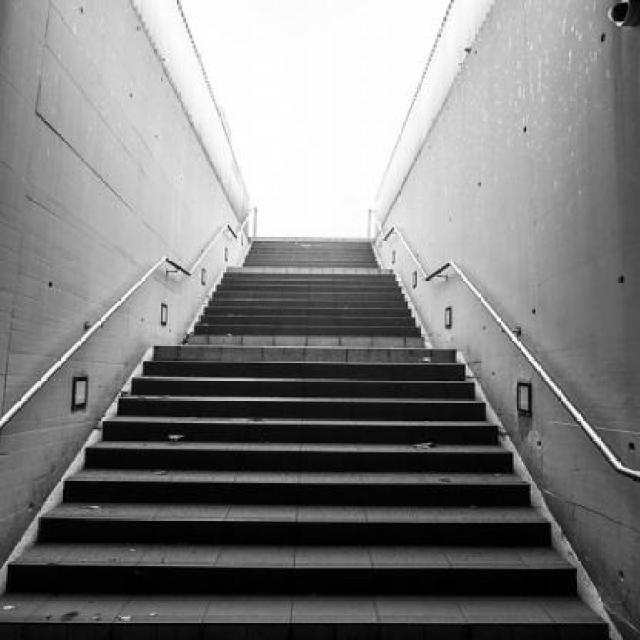stair: (26, 317, 579, 637)
